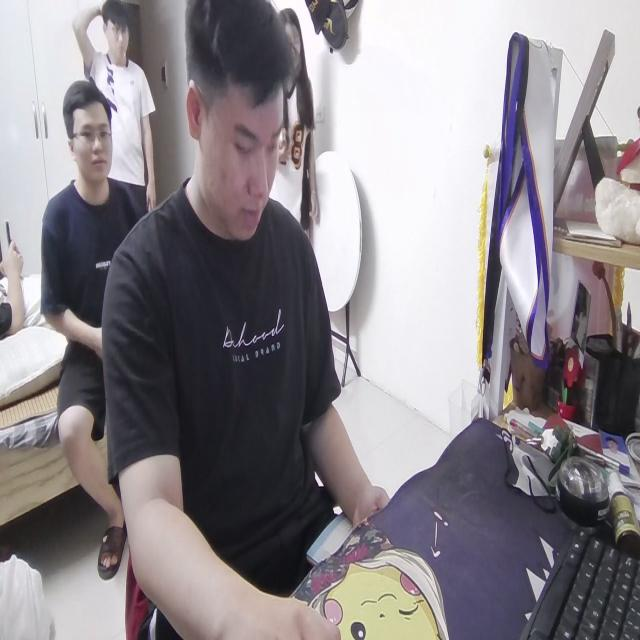extra_person: (45, 91, 142, 552), (79, 1, 159, 218), (269, 7, 323, 251)
student: (104, 0, 388, 640)
